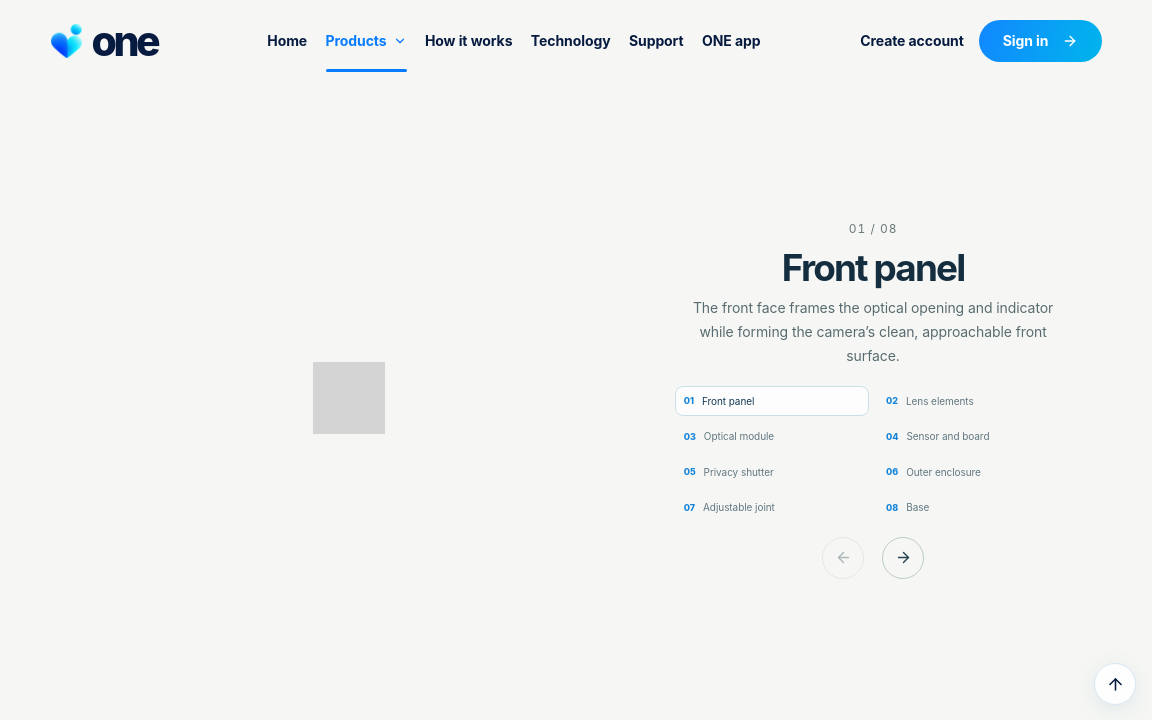
Scenario: marketing navigation and controls › shows one animated camera component at a time for /products/camera
(page scrolled)
Expected: the heading "Front panel" is shown, left=782, top=245, right=964, bottom=290
What coordinates should you click on to do the following:
click the button named "Next component"
I would click on:
 (903, 558)
Its box is left=882, top=537, right=924, bottom=579.
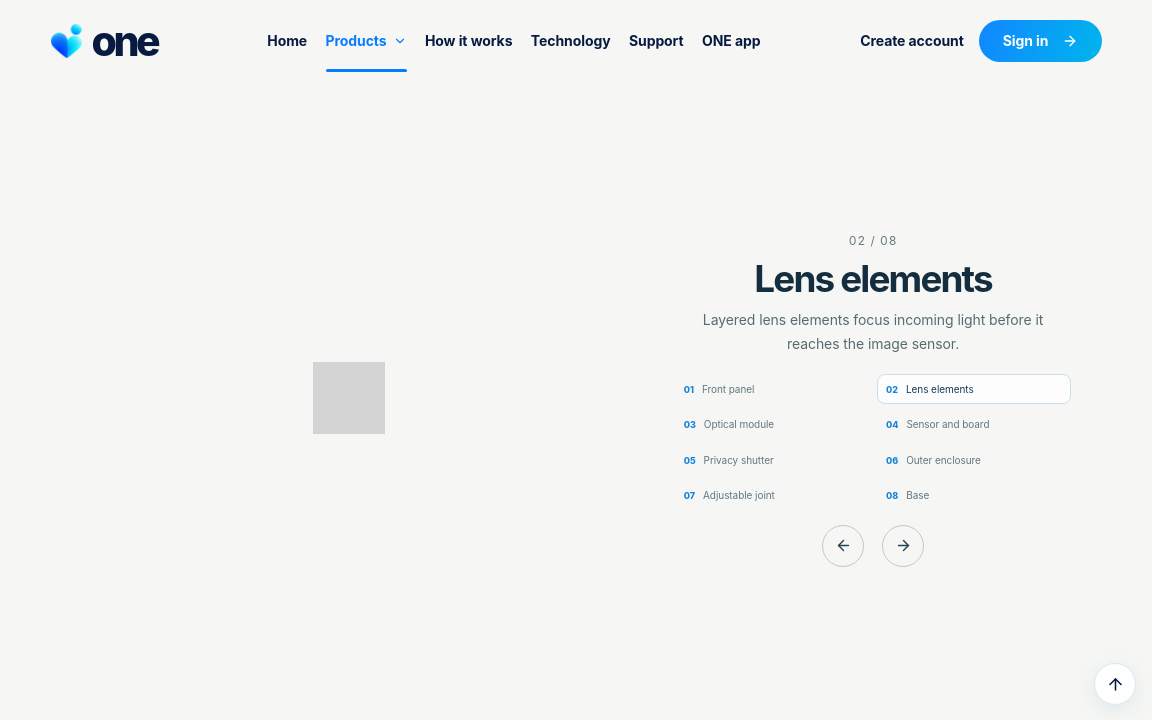
Result: the heading "Lens elements" is shown at left=754, top=257, right=992, bottom=302
